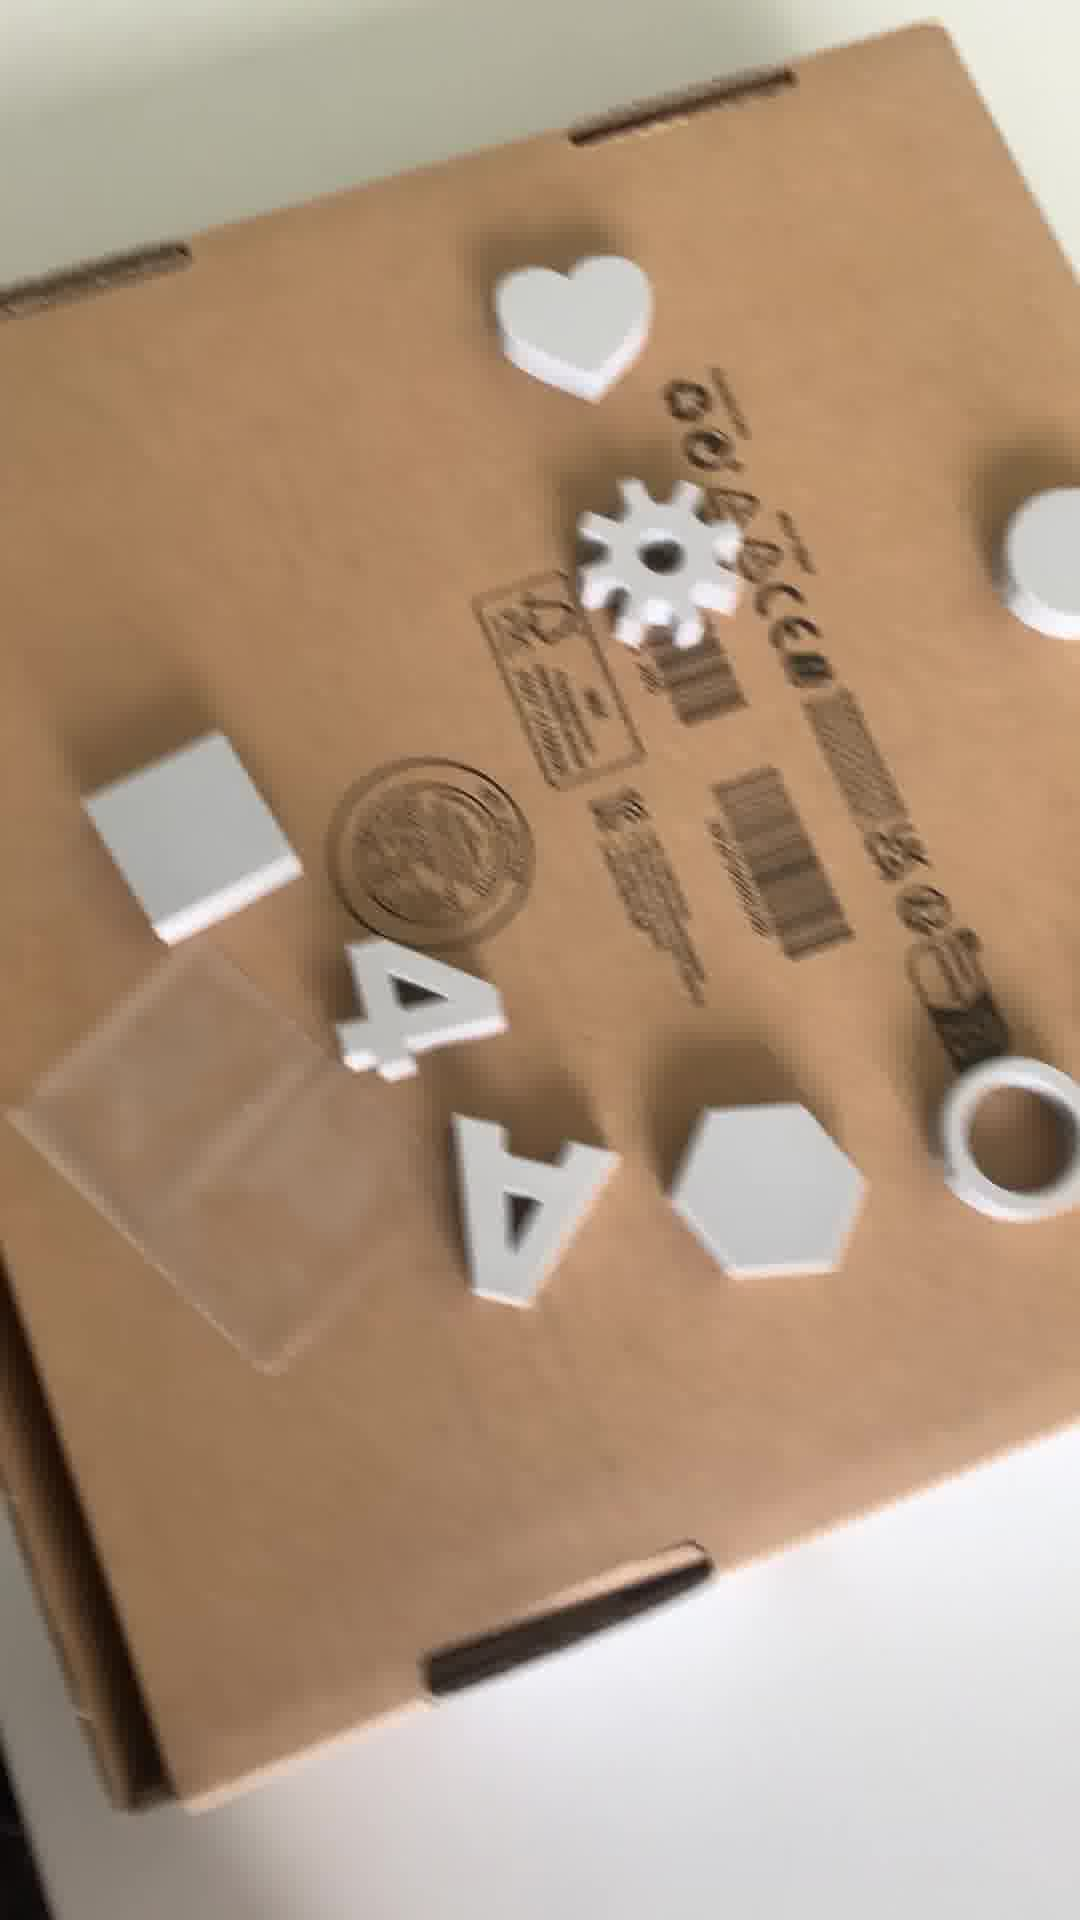Gray A-letter: (431, 1112, 618, 1308)
Gray circle: (980, 471, 1080, 642)
Gray four: (327, 934, 516, 1093)
Gray gear: (558, 485, 752, 654)
Gray heart: (496, 240, 651, 407)
Gray hexagon: (655, 1097, 870, 1283)
Gray ring: (938, 1048, 1080, 1228)
Gray square: (76, 725, 306, 947)
